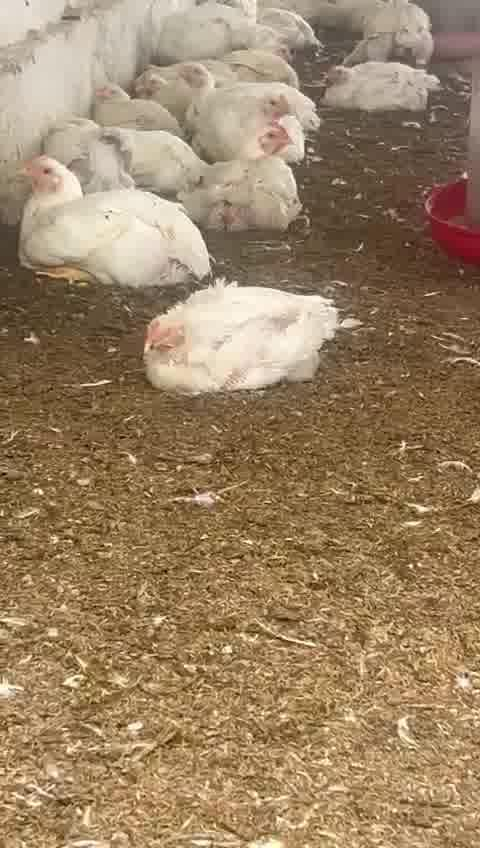AbNormal: (137, 278, 344, 394), (53, 110, 182, 189), (89, 71, 169, 132), (132, 56, 180, 107)
Normal: (9, 149, 210, 289), (198, 108, 310, 237), (173, 61, 318, 119), (352, 0, 449, 75), (323, 55, 439, 114)
